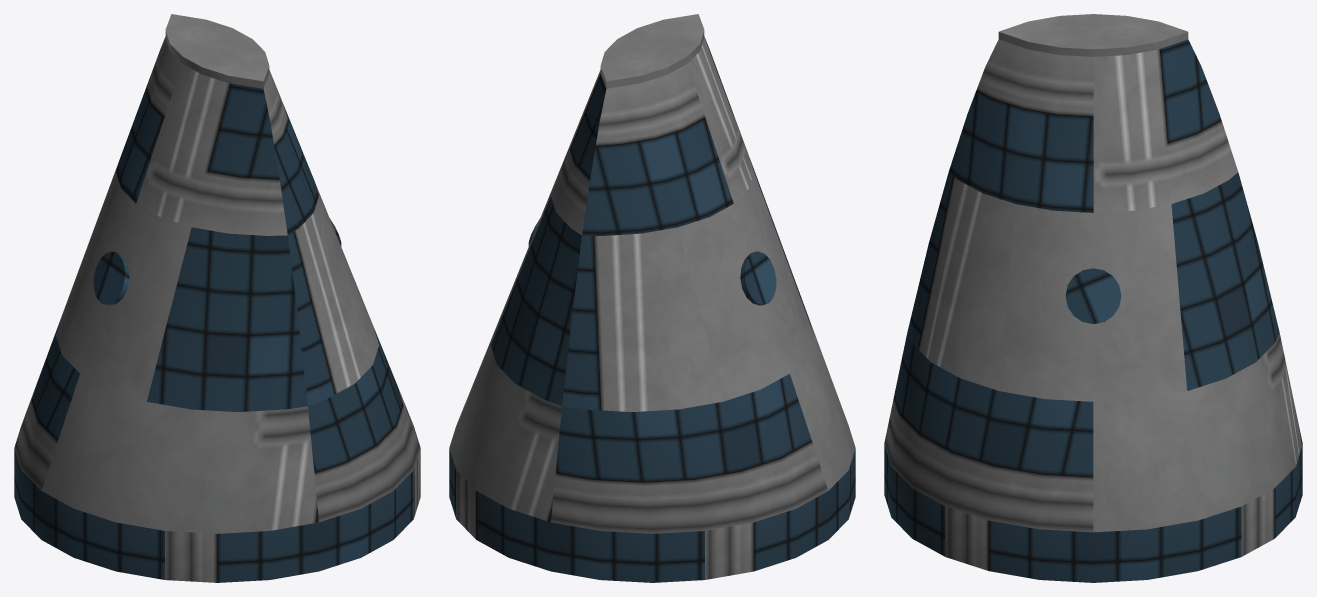
Rendered from spektr_cone.obj.
The picture shows the model from 3 angles, left to right: view 1: azimuth 30°, elevation 25°; view 2: azimuth 150°, elevation 25°; view 3: azimuth 270°, elevation 25°; orthographic projection. The views are drawn at different scales.
Visible parts, largest first — view 1: 1; view 2: 1; view 3: 1.
Part boxes in pixels (box(x1,y1,x2,y2)): 1: box(14, 14, 420, 582); 1: box(449, 14, 855, 582); 1: box(884, 14, 1302, 582).
Bounding box in the file's own units: 1.88 × 2.29 × 1.88.
